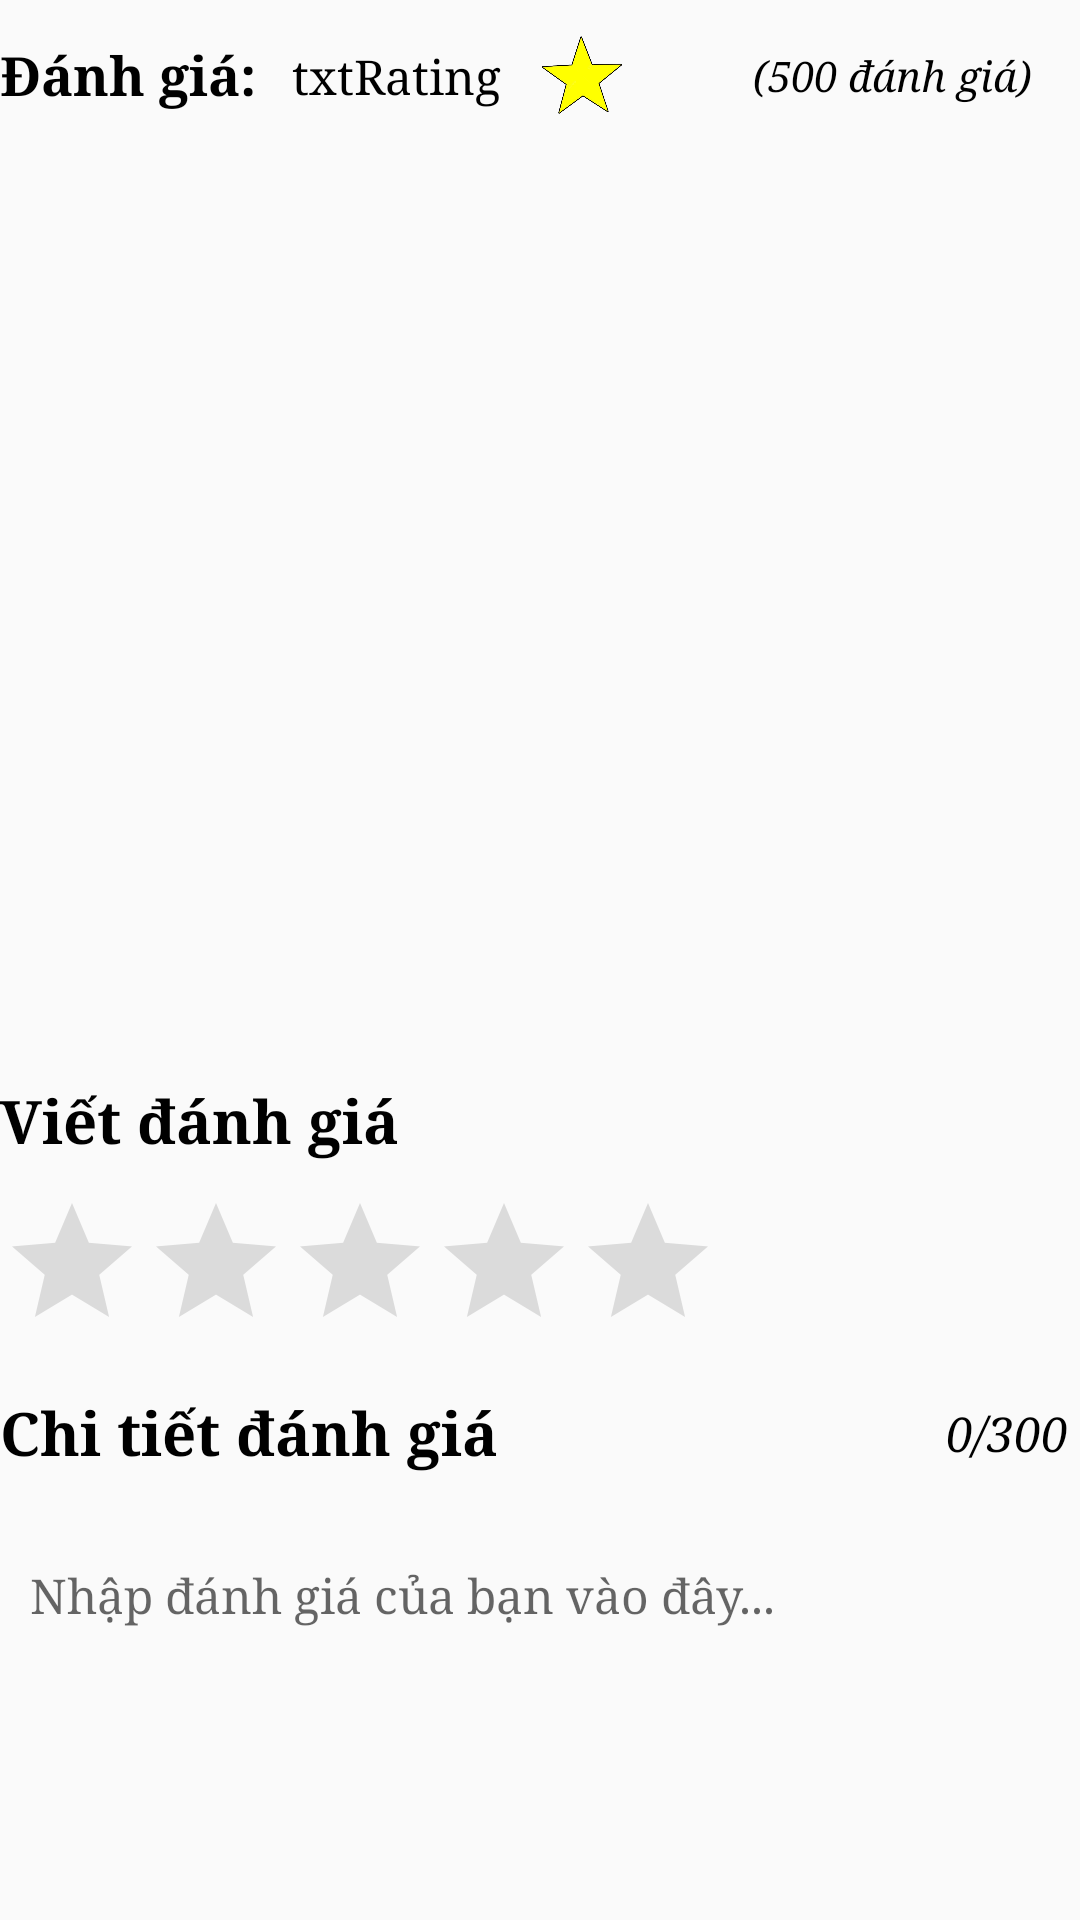

Where icons sit on this 1080*1920 app screen, as box=[x1, y1, x2, y2]:
star: box=[542, 36, 622, 114]
